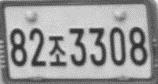0: (109, 25, 126, 66)
2: (28, 27, 46, 66)
3: (88, 26, 107, 66), (68, 27, 87, 66)
8: (128, 26, 147, 66), (9, 27, 27, 66)
조: (48, 35, 67, 67)
